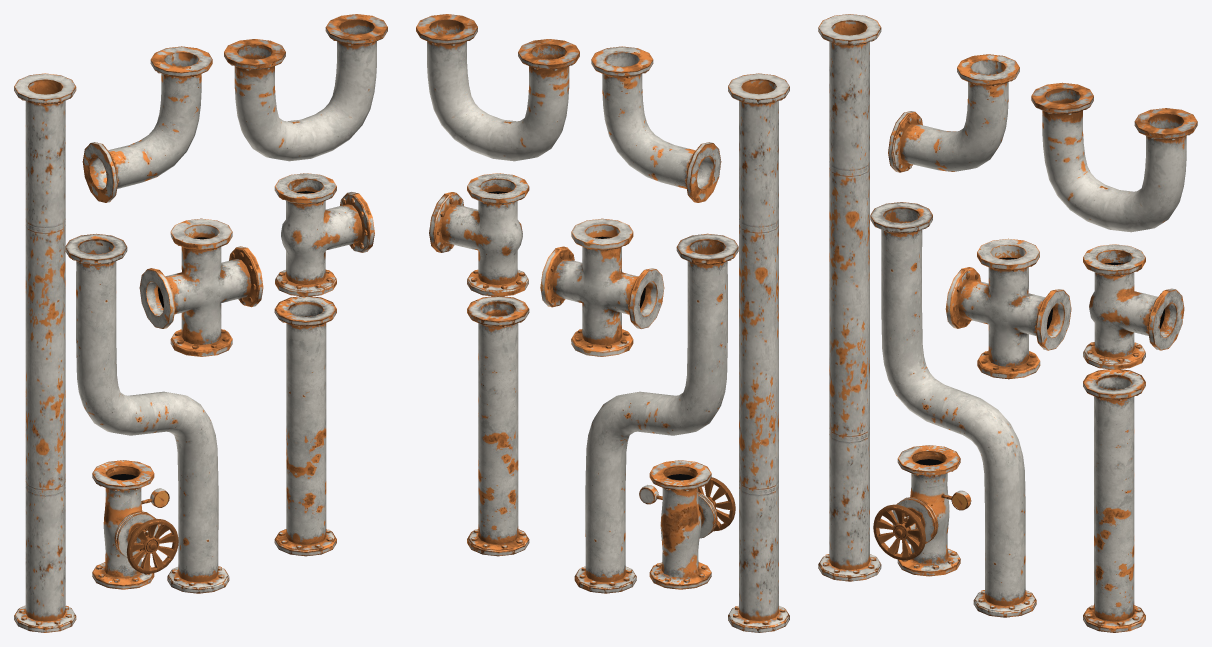
Rendered from pipe_kit.glb.
3 renders of one model, left to right at view 1: azimuth 30°, elevation 25°; view 2: azimuth 150°, elevation 25°; view 3: azimuth 330°, elevation 25°, orthographic.
Visible parts, largest first — view 1: modular_industrial_pipes_01_pipe02, modular_industrial_pipes_01_pipe03, modular_industrial_pipes_01_pipe05, modular_industrial_pipes_01_pipe01, modular_industrial_pipes_01_pipe07, modular_industrial_pipes_01_pipe04, modular_industrial_pipes_01_pipe06, modular_industrial_pipes_01_pipe08; view 2: modular_industrial_pipes_01_pipe02, modular_industrial_pipes_01_pipe03, modular_industrial_pipes_01_pipe05, modular_industrial_pipes_01_pipe01, modular_industrial_pipes_01_pipe07, modular_industrial_pipes_01_pipe04, modular_industrial_pipes_01_pipe06, modular_industrial_pipes_01_pipe08; view 3: modular_industrial_pipes_01_pipe02, modular_industrial_pipes_01_pipe03, modular_industrial_pipes_01_pipe05, modular_industrial_pipes_01_pipe01, modular_industrial_pipes_01_pipe07, modular_industrial_pipes_01_pipe06, modular_industrial_pipes_01_pipe04, modular_industrial_pipes_01_pipe08.
Boxes of the visible parts, bbox=[...] form: modular_industrial_pipes_01_pipe02: bbox=[14, 73, 76, 632]; modular_industrial_pipes_01_pipe03: bbox=[65, 233, 229, 593]; modular_industrial_pipes_01_pipe05: bbox=[224, 14, 387, 161]; modular_industrial_pipes_01_pipe01: bbox=[274, 296, 336, 556]; modular_industrial_pipes_01_pipe07: bbox=[139, 218, 263, 356]; modular_industrial_pipes_01_pipe04: bbox=[82, 46, 212, 202]; modular_industrial_pipes_01_pipe06: bbox=[274, 173, 374, 296]; modular_industrial_pipes_01_pipe08: bbox=[92, 460, 178, 589]; modular_industrial_pipes_01_pipe02: bbox=[728, 73, 789, 632]; modular_industrial_pipes_01_pipe03: bbox=[574, 233, 738, 593]; modular_industrial_pipes_01_pipe05: bbox=[416, 14, 579, 161]; modular_industrial_pipes_01_pipe01: bbox=[467, 296, 529, 556]; modular_industrial_pipes_01_pipe07: bbox=[540, 218, 664, 356]; modular_industrial_pipes_01_pipe04: bbox=[591, 46, 721, 202]; modular_industrial_pipes_01_pipe06: bbox=[429, 173, 529, 296]; modular_industrial_pipes_01_pipe08: bbox=[639, 460, 735, 589]; modular_industrial_pipes_01_pipe02: bbox=[818, 14, 881, 581]; modular_industrial_pipes_01_pipe03: bbox=[870, 202, 1036, 617]; modular_industrial_pipes_01_pipe05: bbox=[1031, 82, 1197, 232]; modular_industrial_pipes_01_pipe01: bbox=[1083, 369, 1145, 632]; modular_industrial_pipes_01_pipe07: bbox=[945, 238, 1071, 379]; modular_industrial_pipes_01_pipe06: bbox=[1083, 244, 1184, 369]; modular_industrial_pipes_01_pipe04: bbox=[888, 54, 1019, 172]; modular_industrial_pipes_01_pipe08: bbox=[873, 445, 971, 576].
Bounding box in the file's own units: 1.4 × 1.95 × 0.3076.
Materials: 2 (2 with a texture image).
